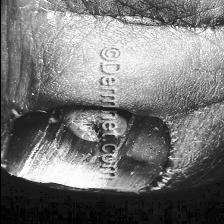Toxin: (64, 104, 125, 140)
